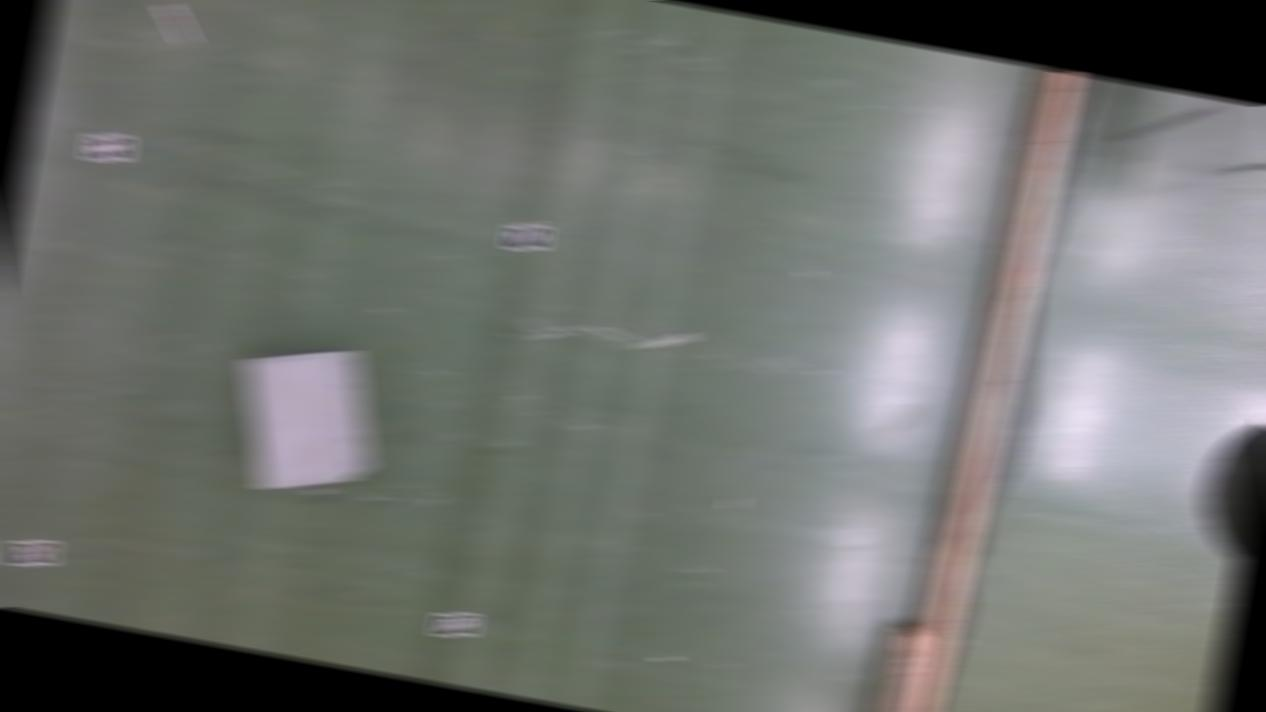probes: (632, 316, 710, 368), (156, 2, 201, 46)
rako: (220, 329, 393, 504)
